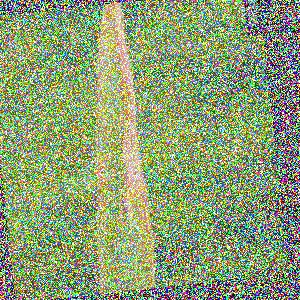Leaf_Blast: (81, 0, 147, 292)
